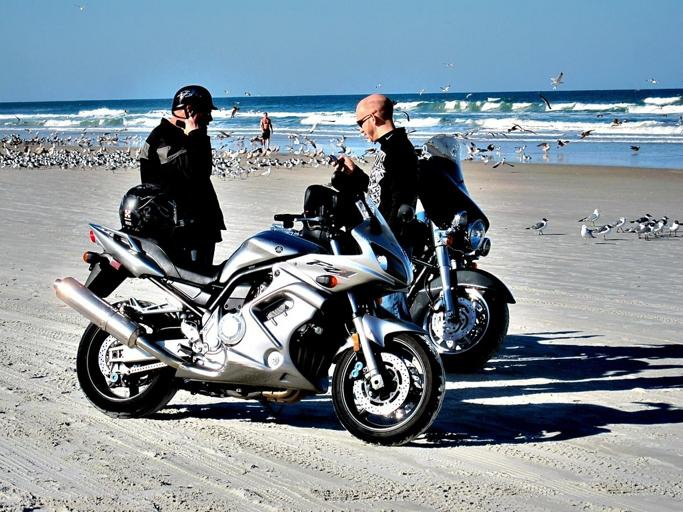non-vehicle: (51, 156, 445, 446), (269, 134, 515, 376)
